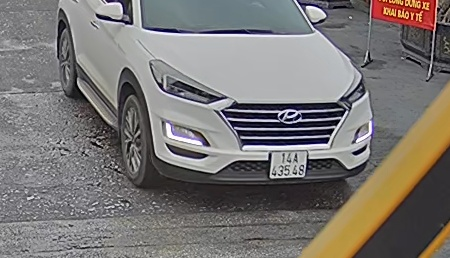vehicle plate: (265, 146, 311, 182)
